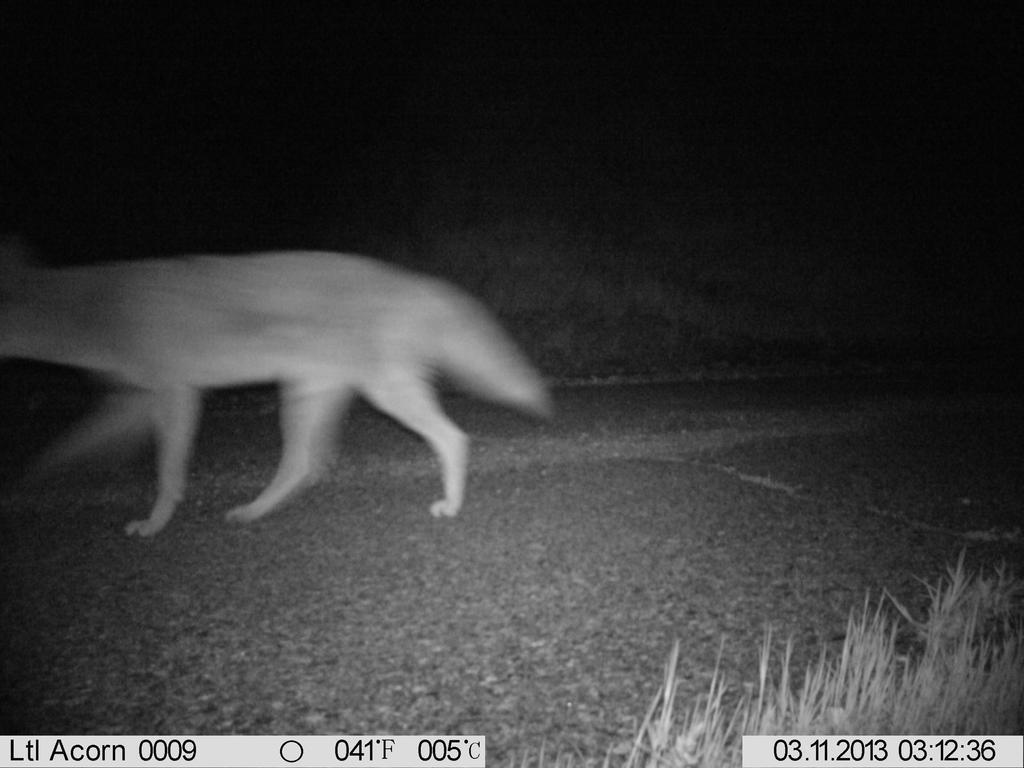coyote: (3, 231, 559, 546)
